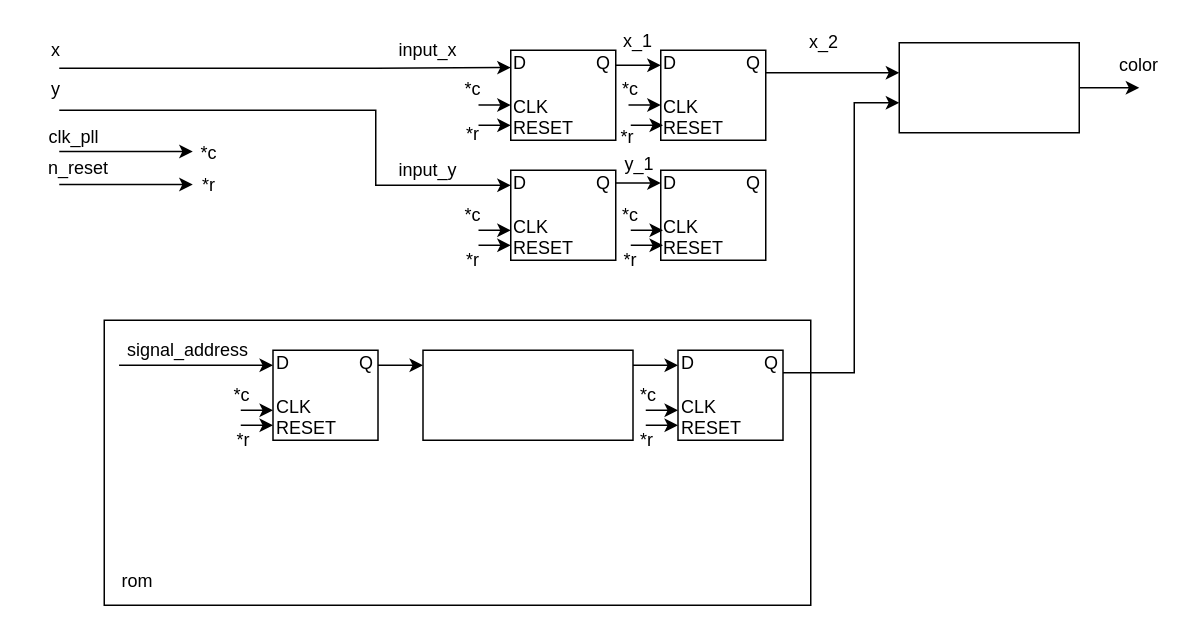
This 1194x632 diagram has some shape labels left out. The shapes that lost their labels are listed below. From the top down, each one's centre as x and y in pixels, then its label:
the point at 988,87: kombinační logika výběru vykreslování
the point at 527,394: ADDRESS OUT rom_vnitřek
